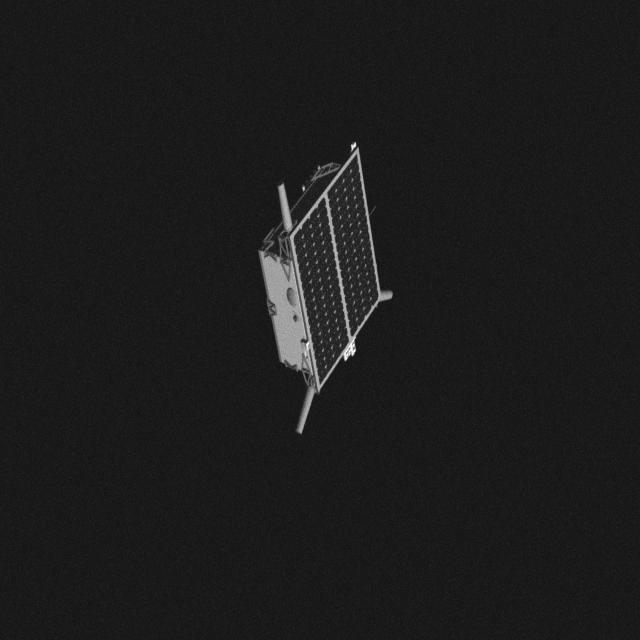medium_debris: (258, 134, 400, 442)
